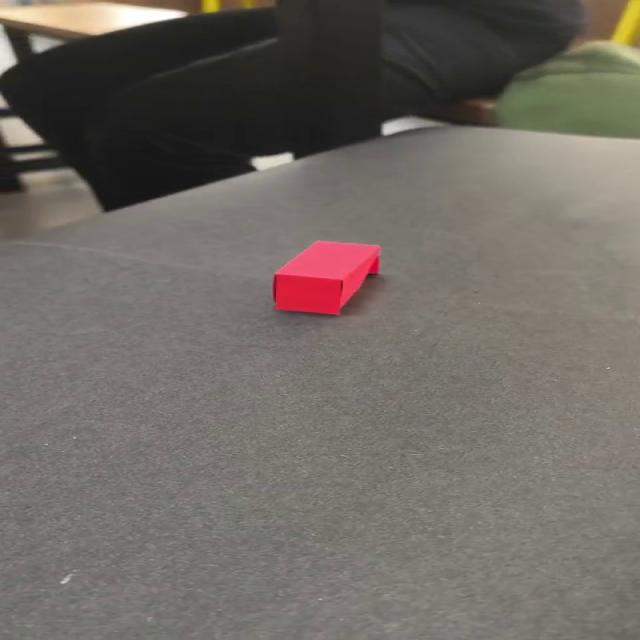red block: (271, 239, 381, 316)
